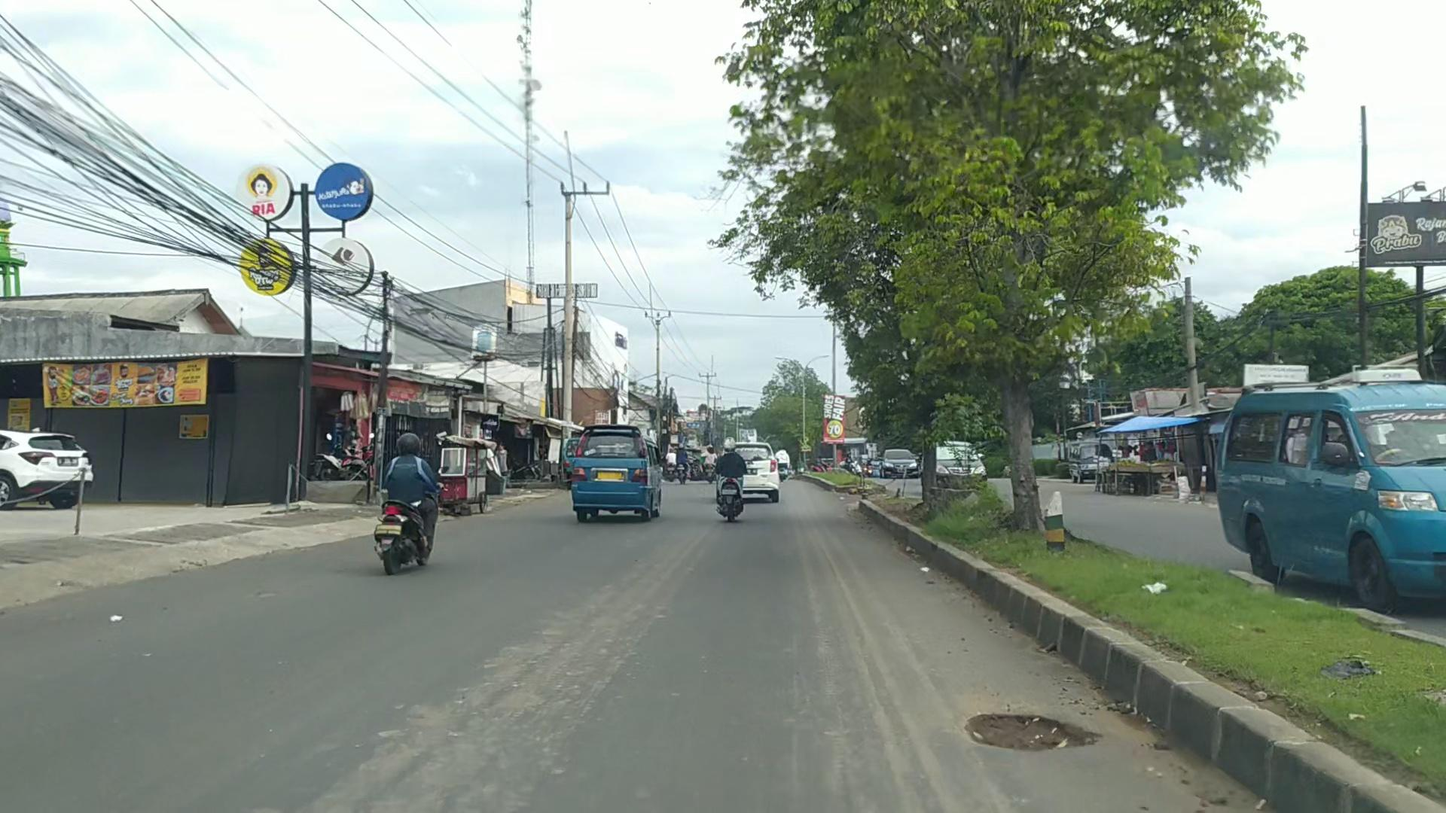pothole: (964, 710, 1099, 754)
